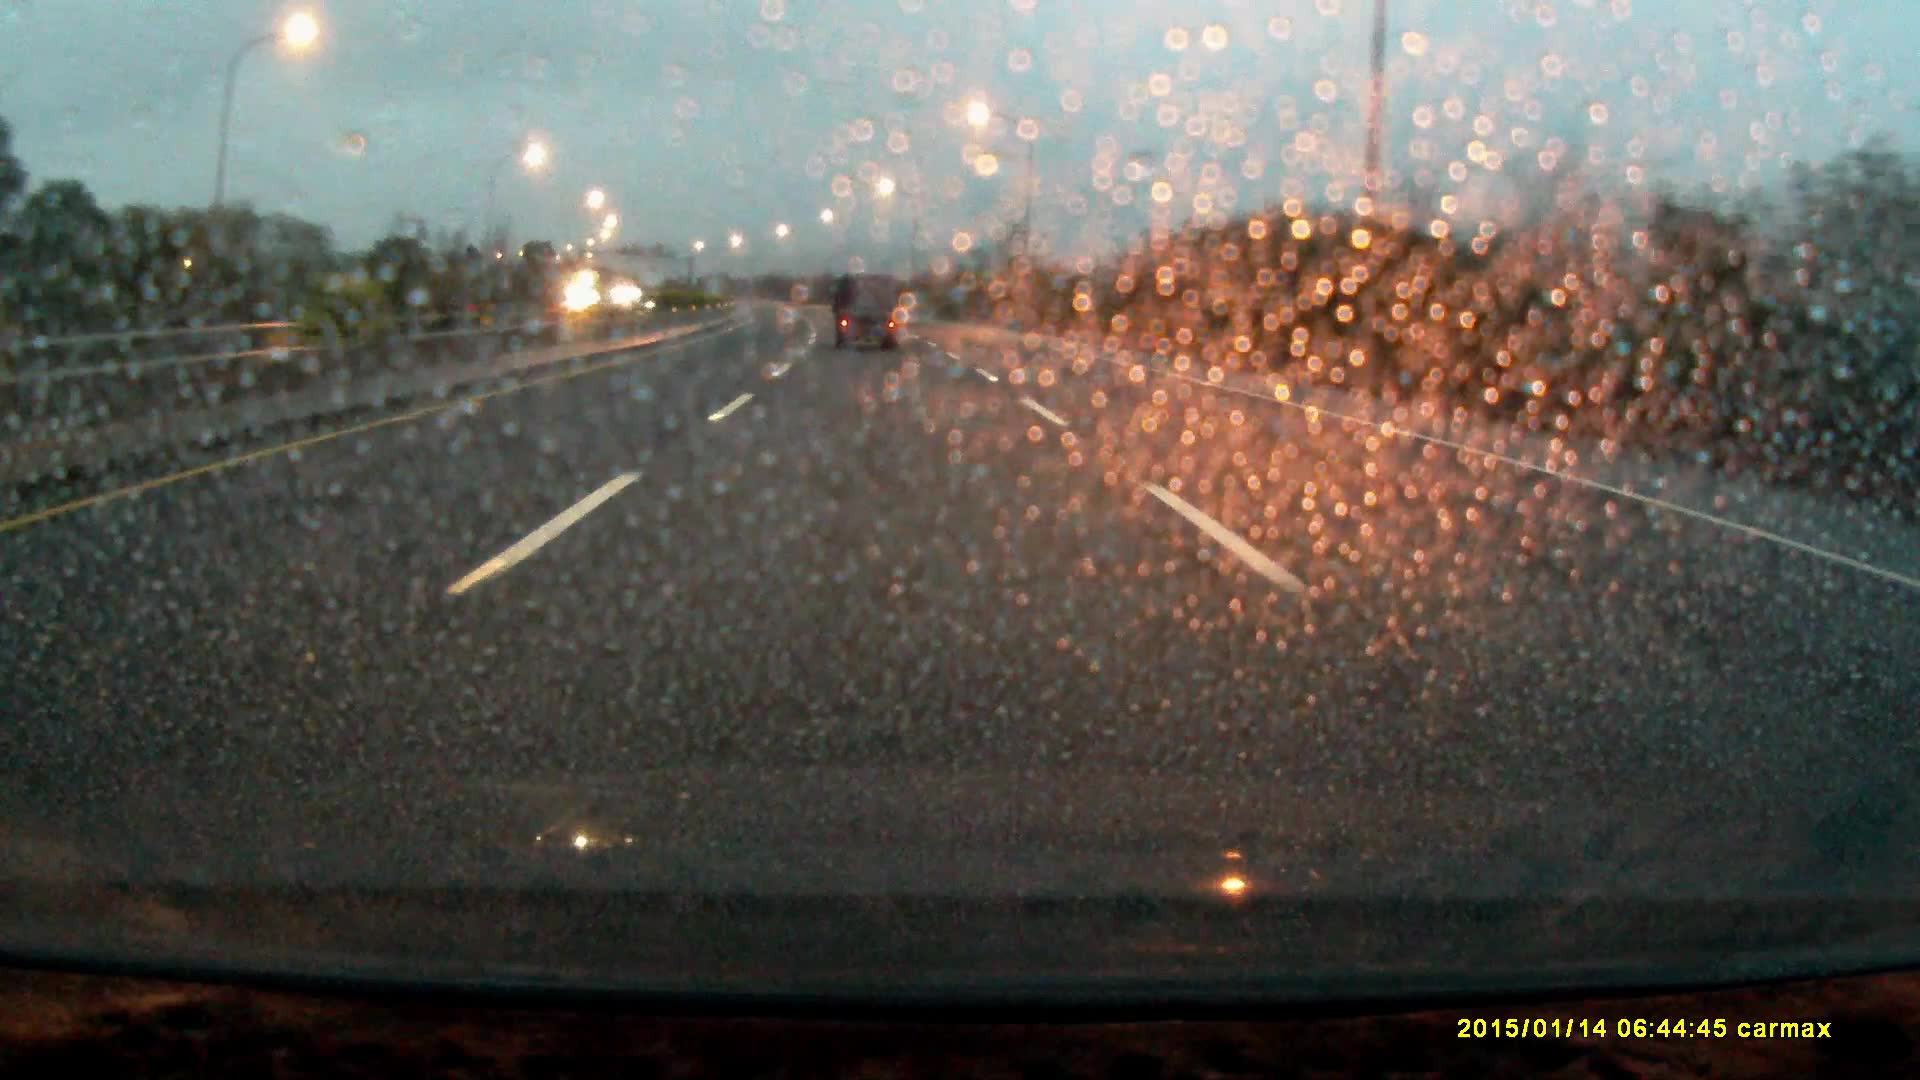vehicle: (832, 276, 902, 355), (570, 269, 636, 320)
